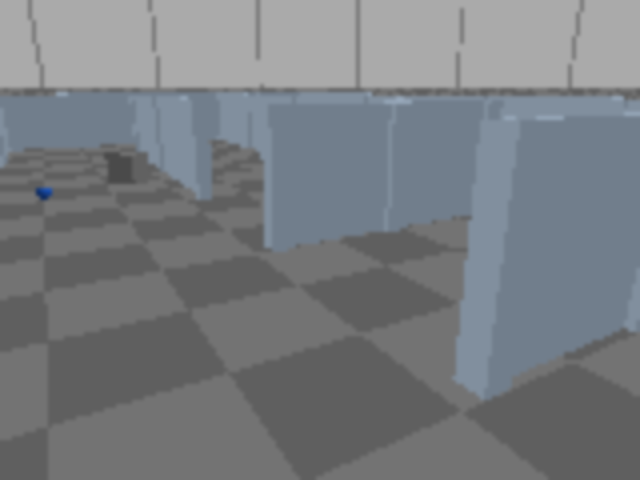obstacle: (105, 150, 151, 185)
puck: (34, 184, 54, 201)
